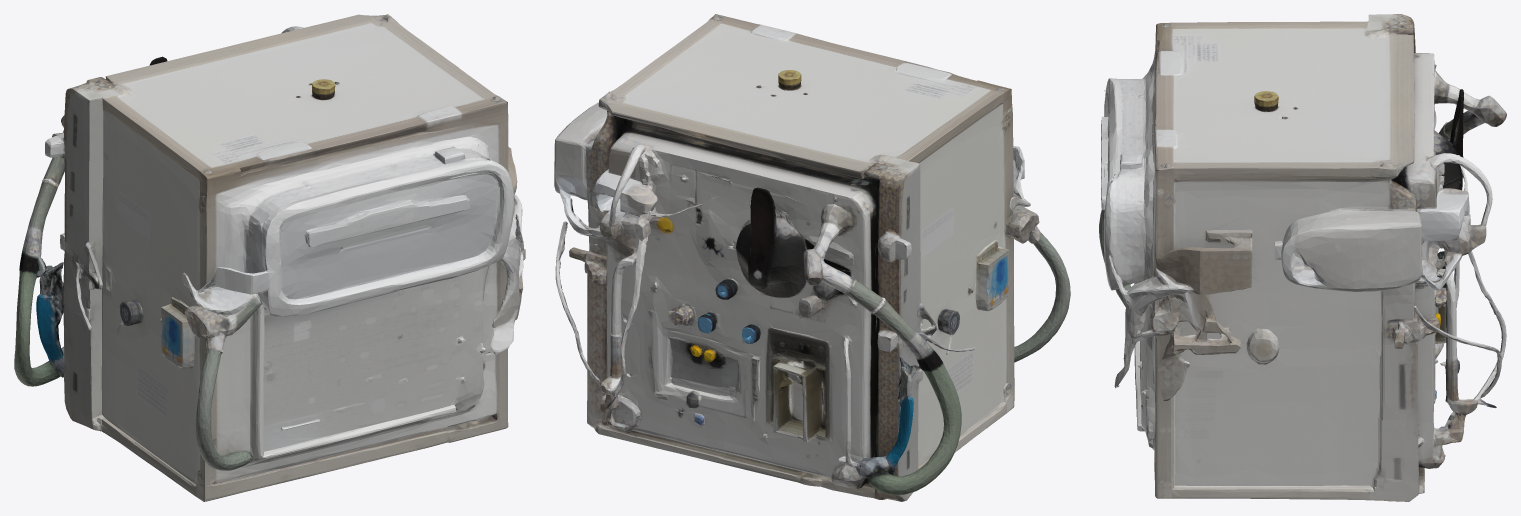
The model's file is FoodRehydrationStation.glb.
3 renders of one model, left to right at view 1: azimuth 30°, elevation 25°; view 2: azimuth 150°, elevation 25°; view 3: azimuth 270°, elevation 25°, orthographic. The views are drawn at different scales.
Parts seen in each view (by area): view 1: world; view 2: world; view 3: world.
Boxes of the visible parts, <box> form: world: <box>14,14,525,501</box>; world: <box>554,14,1070,501</box>; world: <box>1099,14,1506,501</box>.
Size of the model in its own units: 0.9986 by 0.7878 by 0.8481.
1 material, 1 textured.
